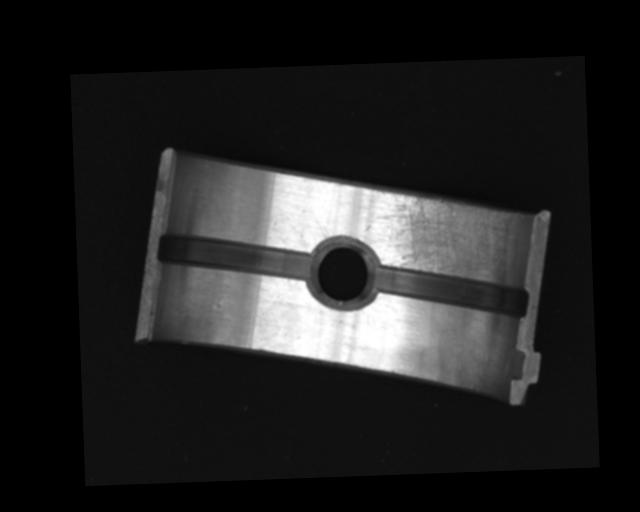gap: (373, 258, 531, 325), (155, 228, 309, 284)
hole: (309, 242, 381, 307)
scratch: (380, 188, 529, 289)
